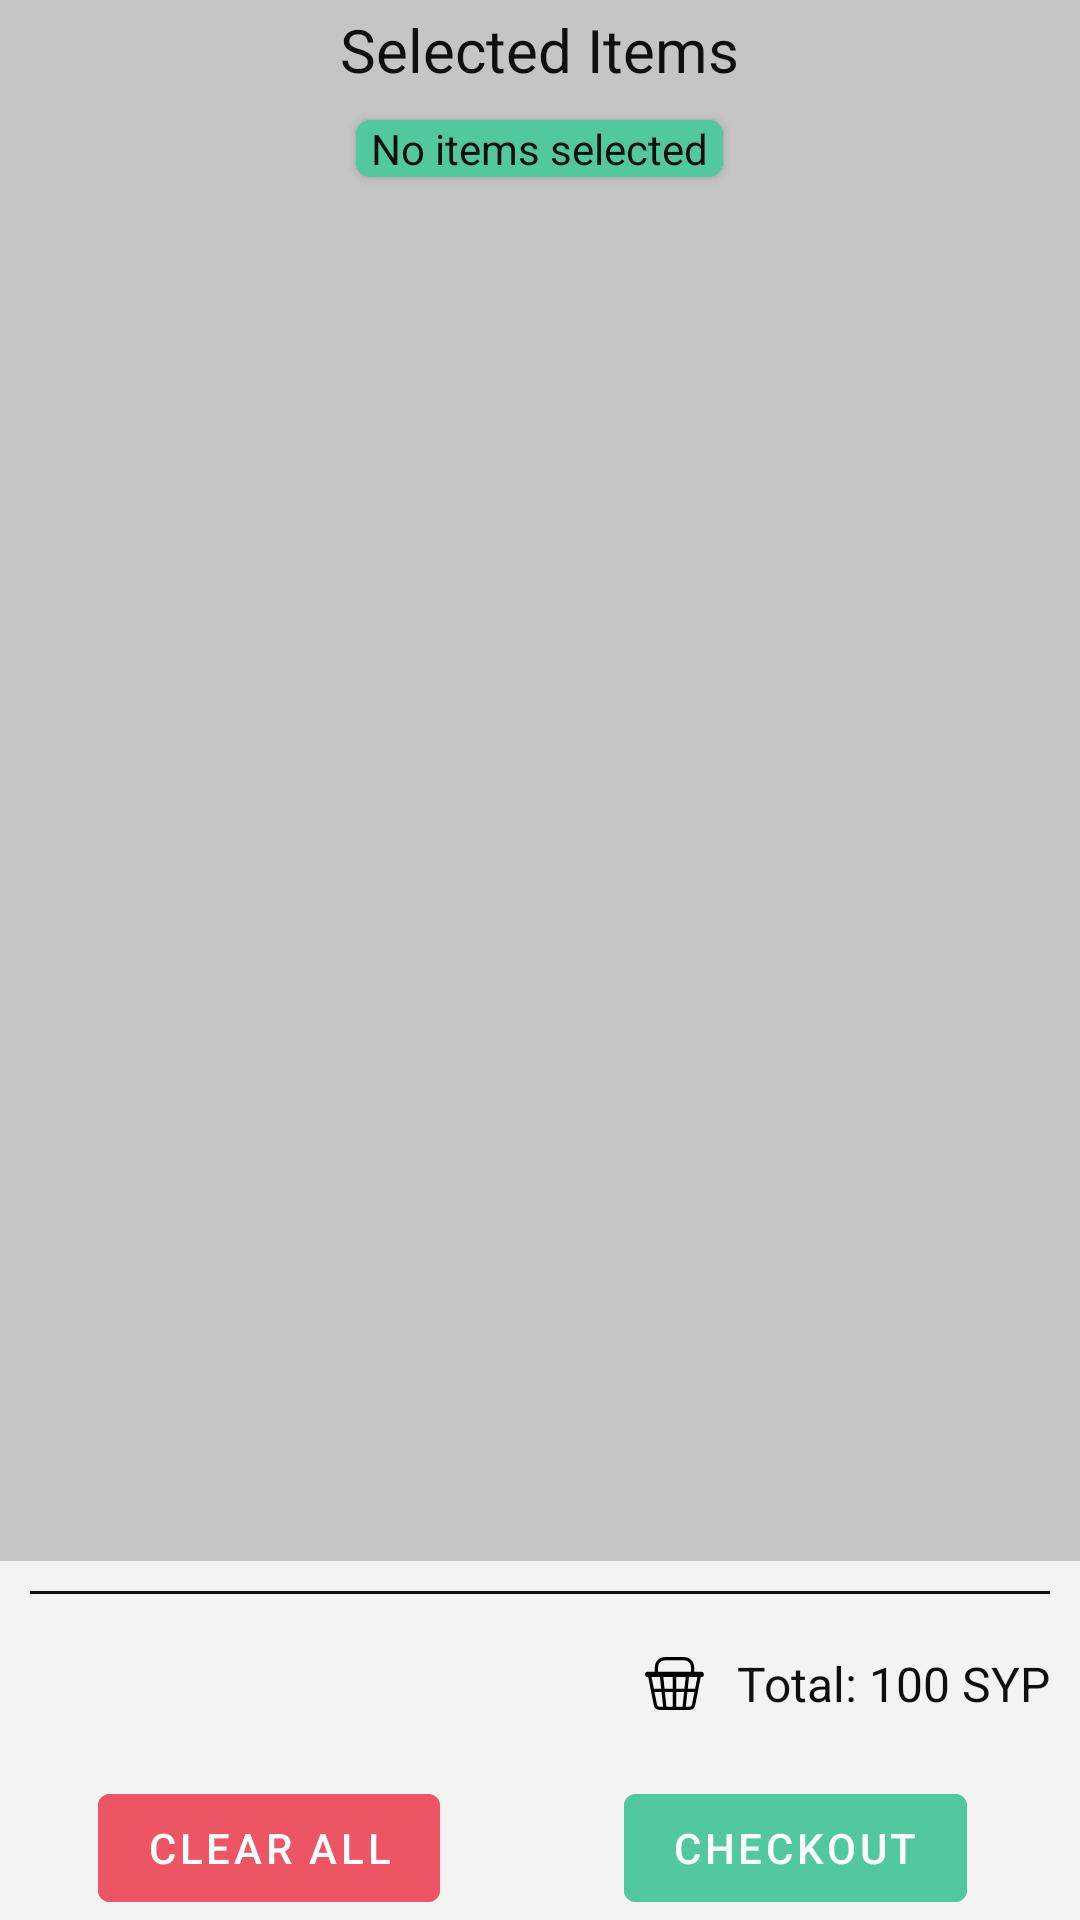

Where icons sit on this 1080 x 1920 app screen, as [x1=x1, y1=y1, x2=x2, y2=y2]:
shopping basket: [x1=645, y1=1657, x2=704, y2=1710]
